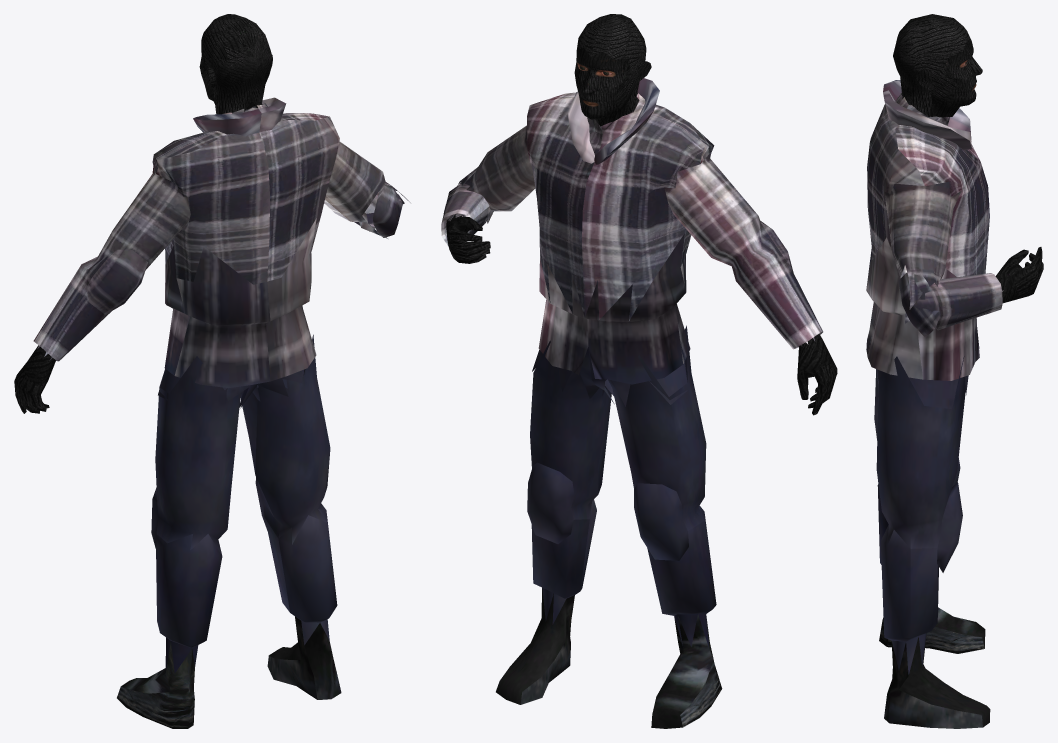
The model's file is soldier.fbx.
3 views of the same model, side by side, from view 1: azimuth 30°, elevation 25°; view 2: azimuth 150°, elevation 25°; view 3: azimuth 270°, elevation 25° (orthographic).
Visible parts, largest first — view 1: torso_l, leg_uppr_l, hip_l, leg_uppr_r, torso_r, leg_lwr_l, leg_lwr_r, hip_r, arm_uppr_l, foot_l, foot_r, arm_lwr_l (+9 smaller); view 2: torso_l, hip_l, torso_r, leg_uppr_l, leg_uppr_r, arm_uppr_l, leg_lwr_l, foot_l, arm_lwr_l, foot_r, hip_r, leg_lwr_r (+12 smaller); view 3: leg_uppr_r, torso_r, hip_r, arm_uppr_r, leg_lwr_r, foot_r, arm_lwr_r, head_side_r, foot_l, collar_r, hand_r, kneepad_r (+8 smaller).
Boxes of the visible parts, x1=… form: torso_l: x1=152, y1=108, x2=269, y2=284; leg_uppr_l: x1=155, y1=356, x2=241, y2=555; hip_l: x1=158, y1=245, x2=270, y2=408; leg_uppr_r: x1=240, y1=334, x2=330, y2=544; torso_r: x1=245, y1=103, x2=339, y2=281; leg_lwr_l: x1=156, y1=532, x2=222, y2=673; leg_lwr_r: x1=264, y1=509, x2=337, y2=645; hip_r: x1=240, y1=218, x2=316, y2=401; arm_uppr_l: x1=86, y1=164, x2=190, y2=287; foot_l: x1=117, y1=641, x2=194, y2=728; foot_r: x1=267, y1=616, x2=341, y2=699; arm_lwr_l: x1=33, y1=256, x2=111, y2=361; torso_l: x1=582, y1=92, x2=714, y2=320; hip_l: x1=585, y1=233, x2=690, y2=406; torso_r: x1=526, y1=92, x2=602, y2=317; leg_uppr_l: x1=608, y1=325, x2=706, y2=530; leg_uppr_r: x1=530, y1=340, x2=611, y2=519; arm_uppr_l: x1=664, y1=151, x2=788, y2=272; leg_lwr_l: x1=647, y1=505, x2=716, y2=648; foot_l: x1=651, y1=614, x2=722, y2=728; arm_lwr_l: x1=732, y1=251, x2=823, y2=349; foot_r: x1=496, y1=588, x2=574, y2=704; hip_r: x1=532, y1=258, x2=606, y2=398; leg_lwr_r: x1=531, y1=499, x2=596, y2=624; leg_uppr_r: x1=876, y1=356, x2=965, y2=548; torso_r: x1=867, y1=93, x2=989, y2=276; hip_r: x1=866, y1=237, x2=983, y2=409; arm_uppr_r: x1=884, y1=182, x2=960, y2=323; leg_lwr_r: x1=880, y1=525, x2=938, y2=674; foot_r: x1=884, y1=633, x2=990, y2=728; arm_lwr_r: x1=909, y1=273, x2=1004, y2=330; head_side_r: x1=898, y1=17, x2=971, y2=72; foot_l: x1=879, y1=607, x2=985, y2=653; collar_r: x1=883, y1=90, x2=971, y2=150; hand_r: x1=995, y1=249, x2=1038, y2=303; kneepad_r: x1=937, y1=482, x2=962, y2=572.
Bounding box in the file's own units: 35.35 × 59.87 × 14.33.
6 materials, 6 textured.
